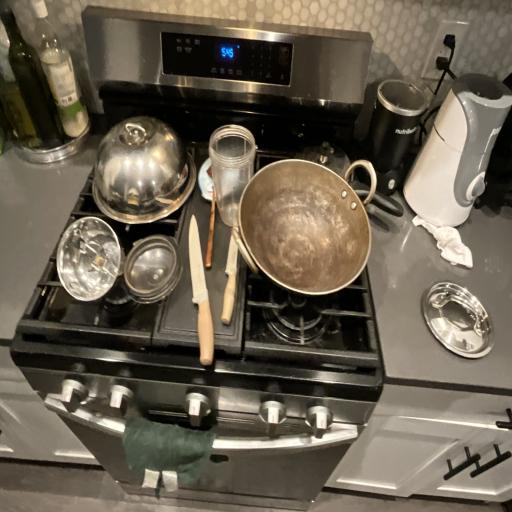Pan: (231, 148, 395, 324)
Stove: (32, 93, 402, 440)
knife: (180, 204, 219, 374), (223, 221, 248, 347)
